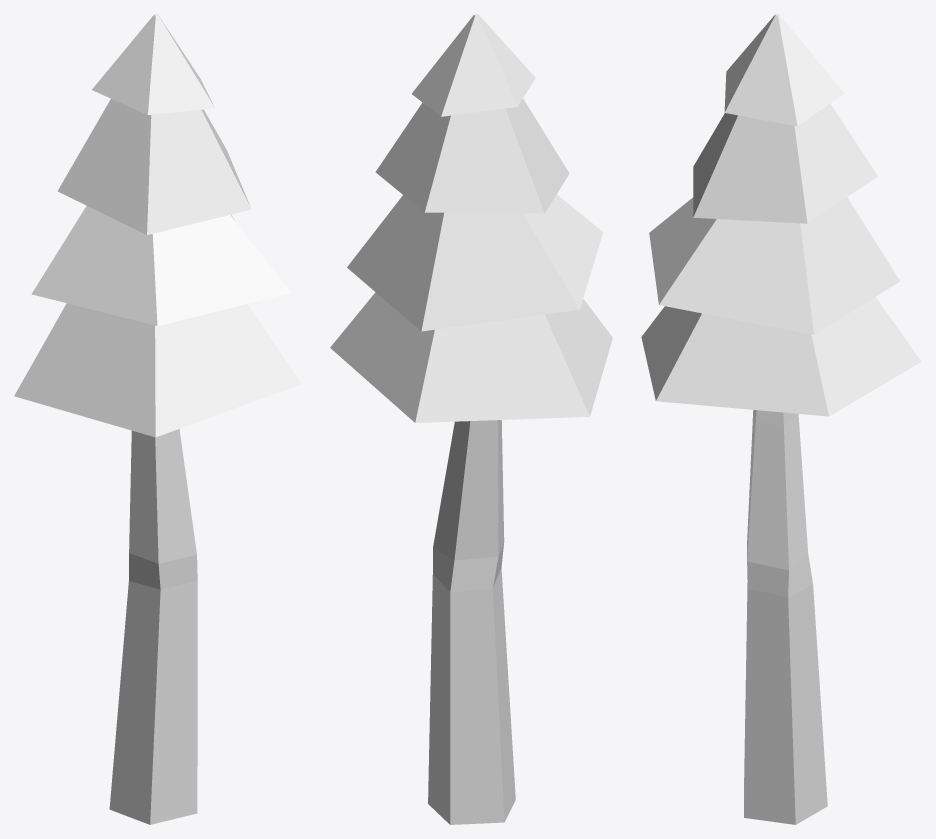
The model's file is tree.sequoia.tallest.glb.
3 renders of one model, left to right at view 1: azimuth 30°, elevation 25°; view 2: azimuth 150°, elevation 25°; view 3: azimuth 270°, elevation 25°, orthographic.
Visible parts, largest first — view 1: sequoia.tallest; view 2: sequoia.tallest; view 3: sequoia.tallest.
Part boxes in pixels (x1,y1,x2,y2): sequoia.tallest: (14,14,301,824); sequoia.tallest: (330,14,612,824); sequoia.tallest: (641,14,921,824).
Bounding box in the file's own units: 3.27 × 9.95 × 3.2.
Materials: 1 (1 with a texture image).
